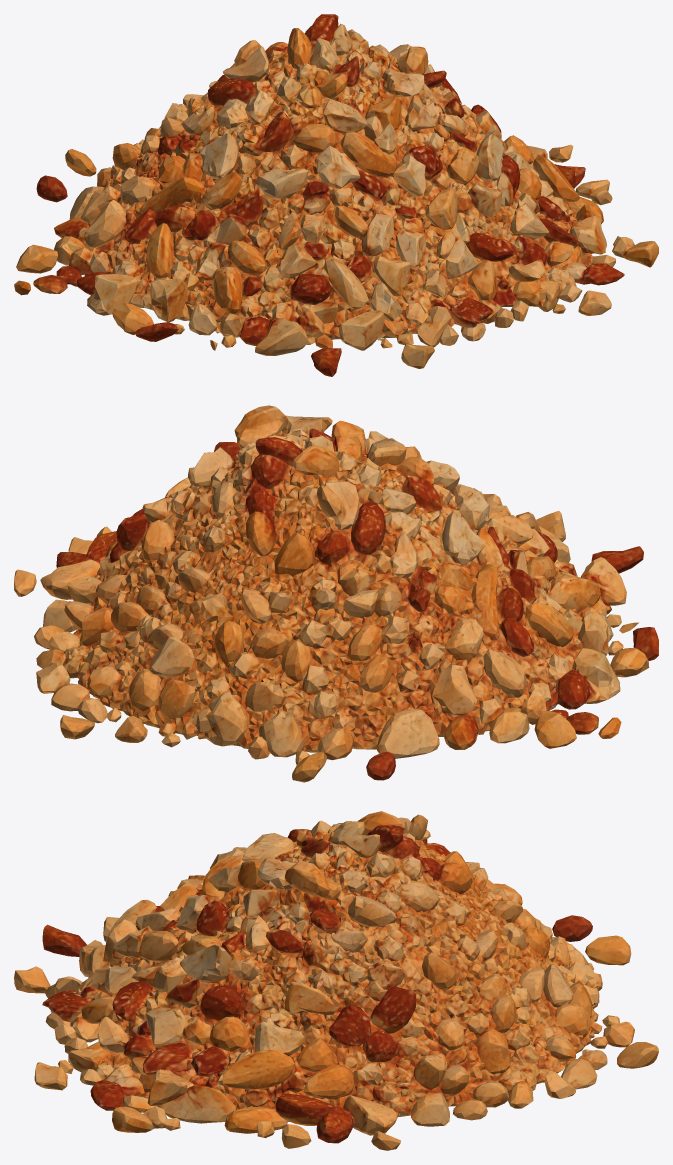
Rendered from lod_basic_pbr.fbx.
3 renders of one model, top to bottom at view 1: azimuth 30°, elevation 25°; view 2: azimuth 150°, elevation 25°; view 3: azimuth 270°, elevation 25°, orthographic. The views are drawn at different scales.
Visible parts, largest first — view 1: model_LOD0; view 2: model_LOD0; view 3: model_LOD0.
Part boxes in pixels (box(x1,y1,x2,y2)): model_LOD0: box(14, 14, 658, 376); model_LOD0: box(14, 405, 658, 782); model_LOD0: box(14, 811, 658, 1150).
Size of what is drawn, in the model's own units: 190 by 65.9 by 184.
Materials: 1 (1 with a texture image).
